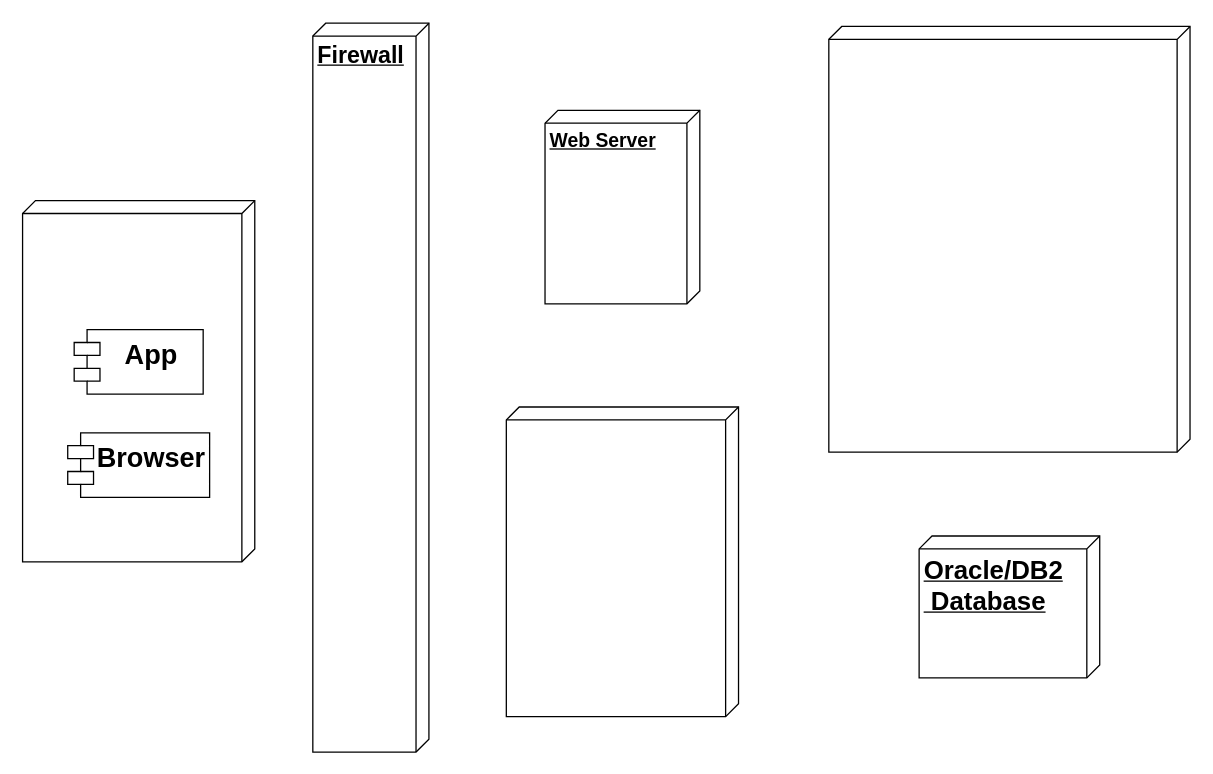
The diagram is 1213 pixels wide and 774 high, and some of its shapes have lost their labels. The box of each missing label's shape, as (x1, y1, x2, y2) in pixels:
Application Server: (828, 25, 1190, 452)
User Client: (21, 199, 255, 562)
VR Equipment: (505, 406, 739, 717)
